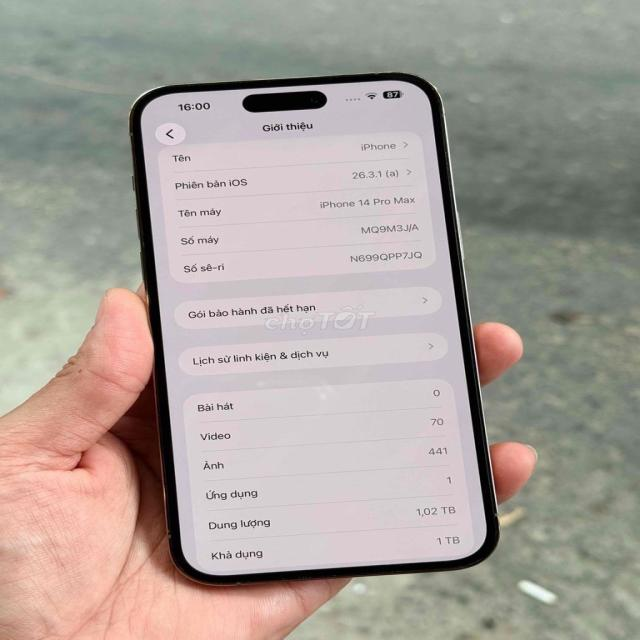gen_14: (130, 56, 506, 582)
